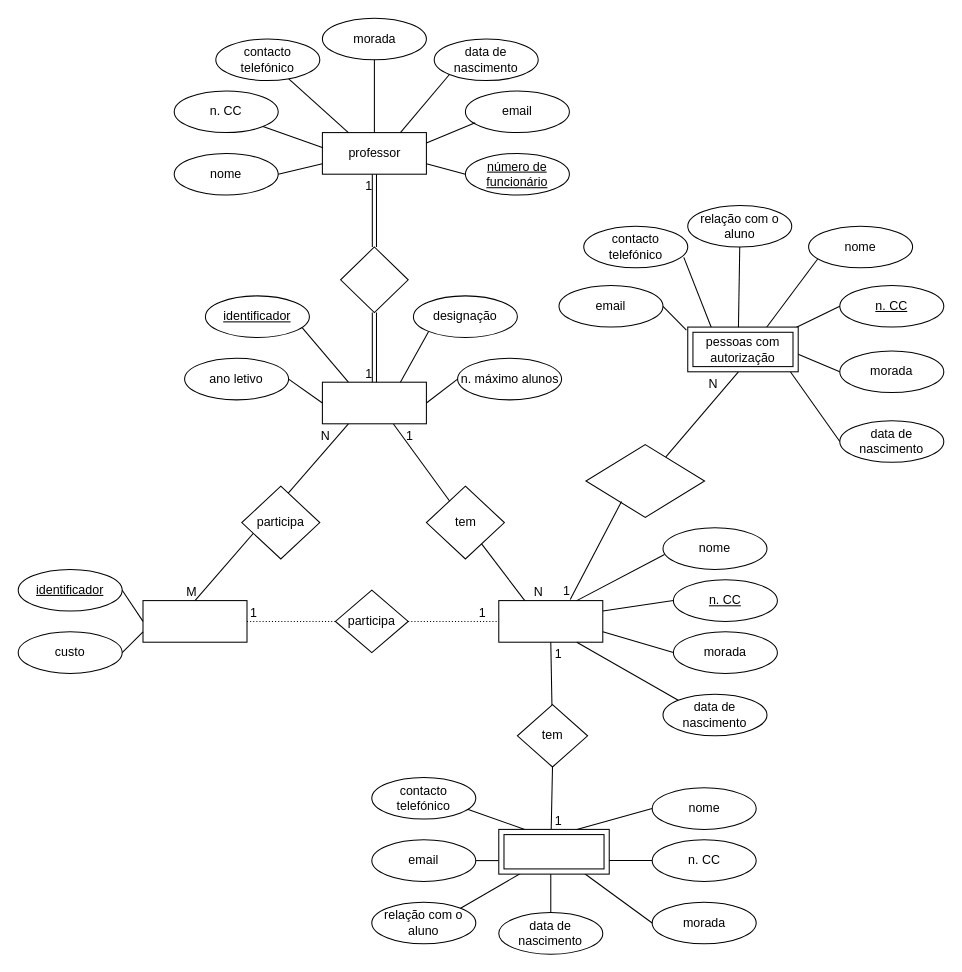
The diagram is 962 pixels wide and 972 high, and some of its shapes have lost their labels. Each missing label, with the centre of its shape:
"aluno" belongs at pixel 550 621.
"atividades" belongs at pixel 194 621.
"encarregado de educação" belongs at pixel 553 851.
"ensina" belongs at pixel 374 279.
"levantar/entregar" belongs at pixel 645 480.
"turma" belongs at pixel 373 402.
